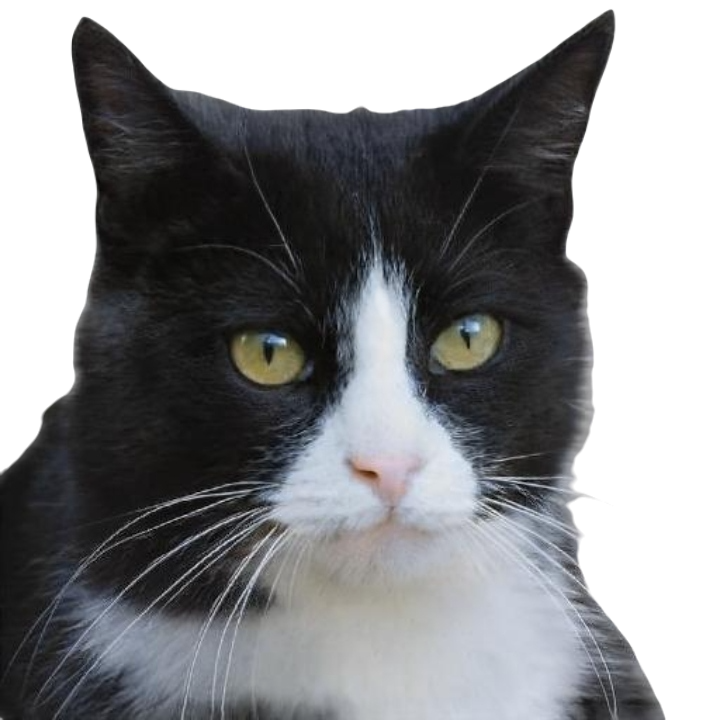Cat: (2, 5, 664, 715)
